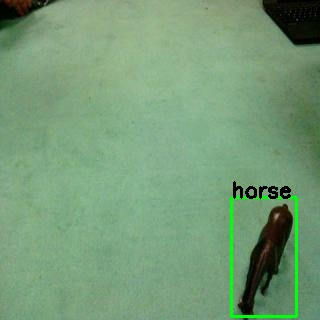horse: (236, 202, 296, 320)
